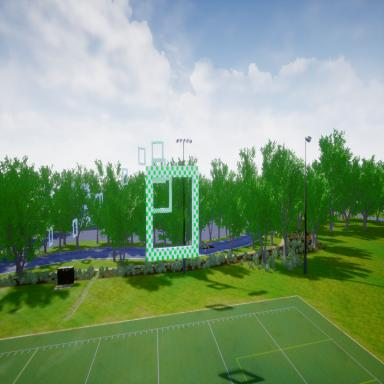gate: (145, 162, 200, 266)
